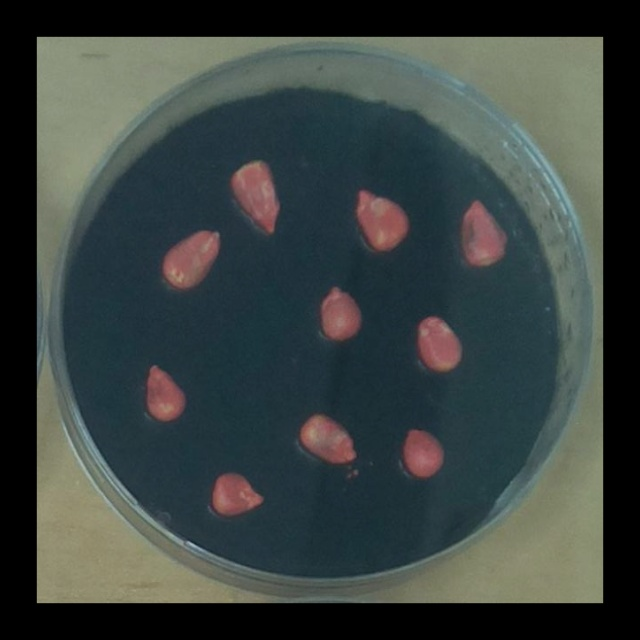Zea mays: (222, 150, 287, 241), (153, 221, 228, 295), (347, 181, 417, 258), (455, 191, 512, 273), (293, 406, 363, 471), (410, 308, 469, 380), (312, 277, 369, 348), (205, 466, 271, 522), (139, 357, 192, 426), (396, 420, 451, 485)
